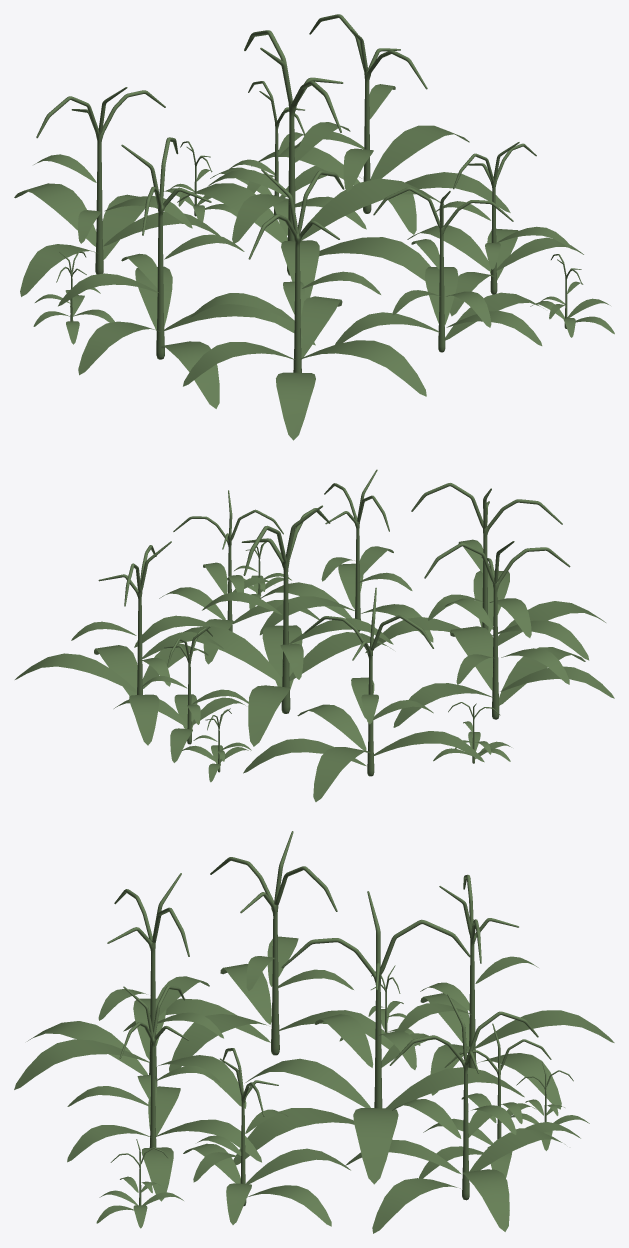
File: Grass.fbx
3 views of the same model, one above another, from view 1: azimuth 30°, elevation 25°; view 2: azimuth 150°, elevation 25°; view 3: azimuth 270°, elevation 25° (orthographic). The views are drawn at different scales.
Visible parts, largest first — view 1: Grass; view 2: Grass; view 3: Grass.
Part boxes in pixels (left/top/right/bottom): Grass: left=14, top=14, right=614, bottom=440; Grass: left=15, top=469, right=614, bottom=801; Grass: left=14, top=831, right=614, bottom=1233.
Bounding box in the file's own units: 0.7716 × 0.7706 × 0.3329.
